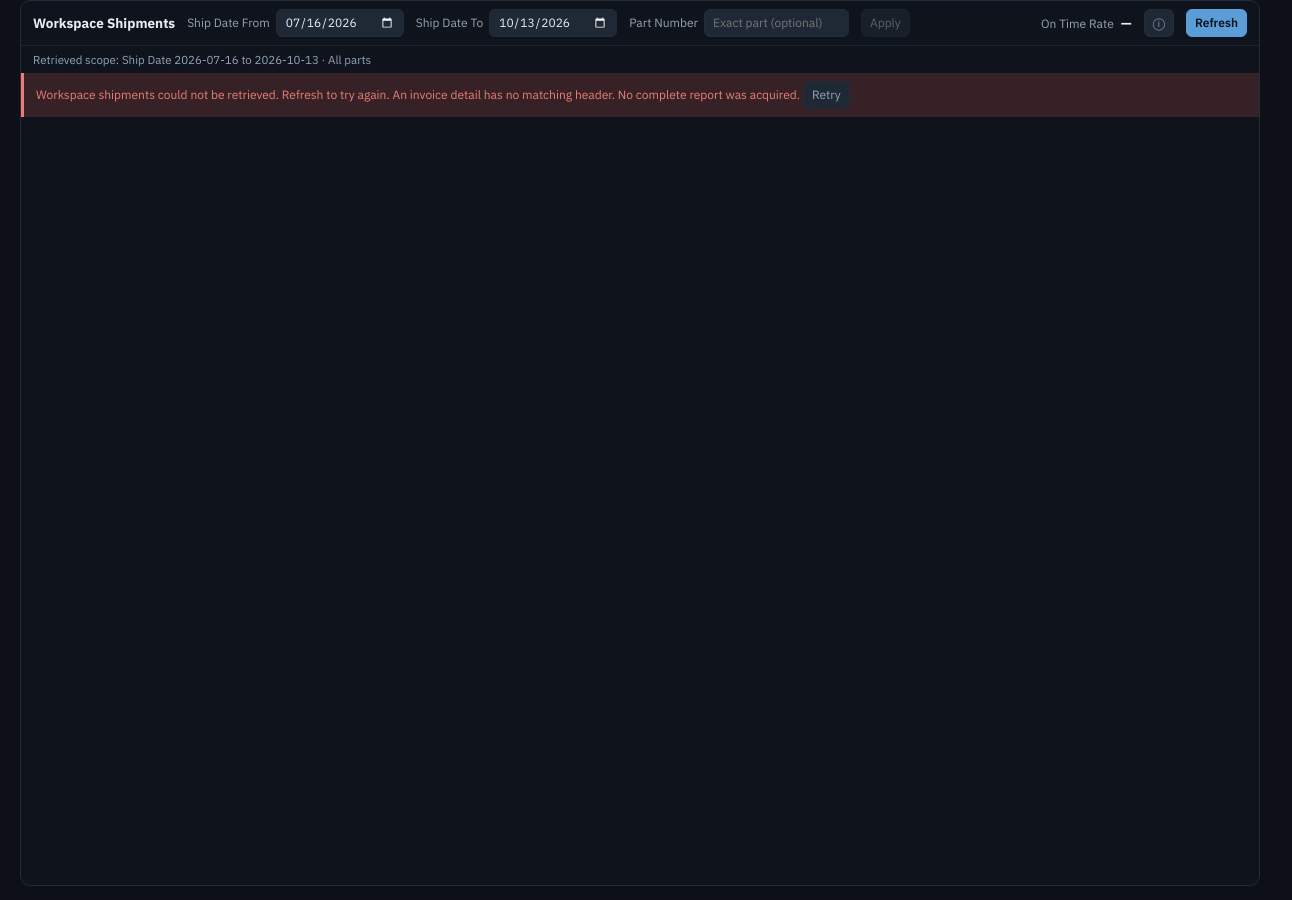
Test: Workspace Shipments panel (mocked generated client only) › shows a safe actionable error and never shows partial results; browser network wording is replaced
Expected: the message shows "Refresh to try again. An invoice detail has no matching header.", left=36, top=87, right=800, bottom=102
Click the button "Refresh": (1216, 23) left=1186, top=9, right=1247, bottom=37
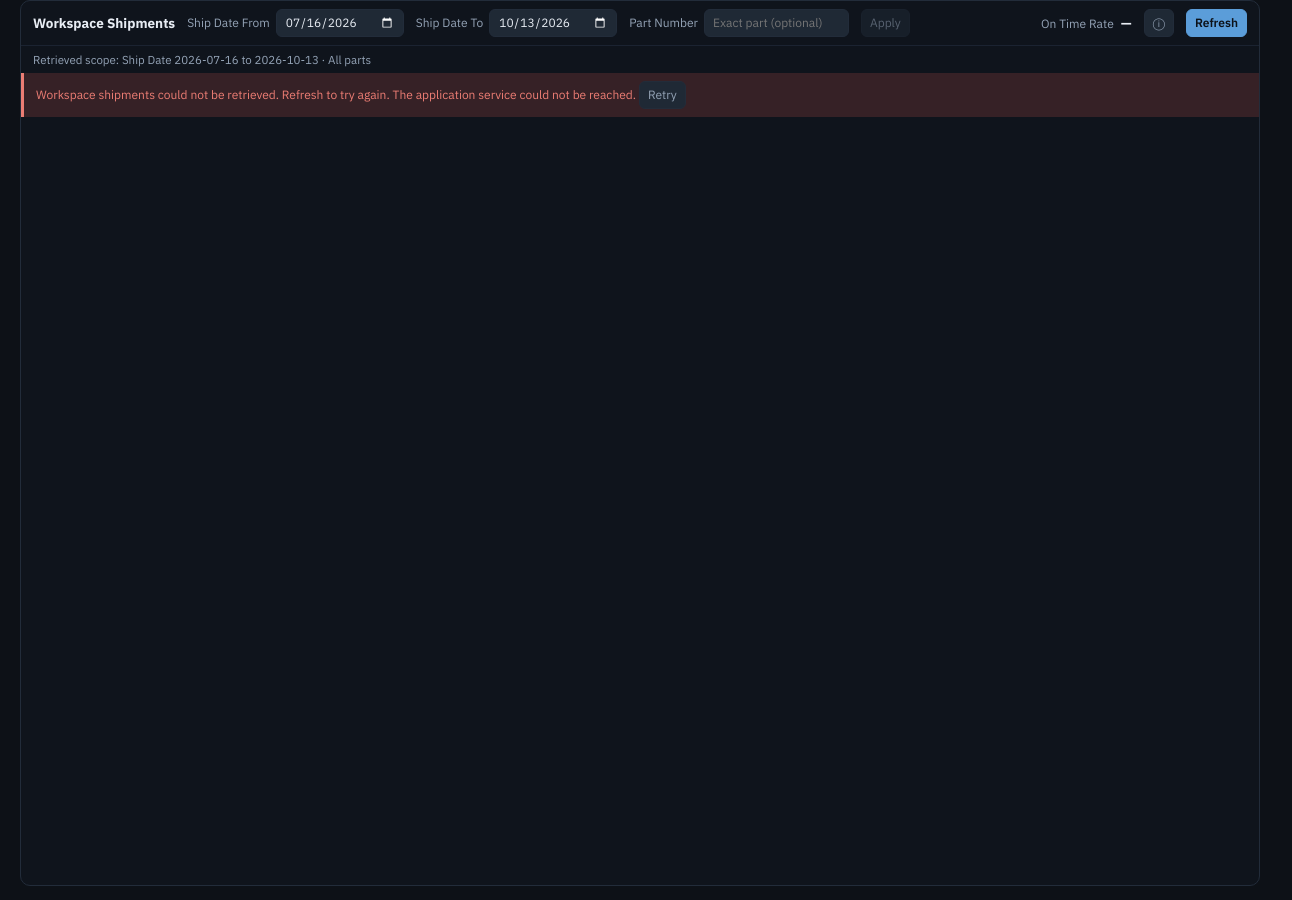
Expected: the message does not show "Failed to fetch", left=21, top=73, right=1259, bottom=117
Now the message shows "could not be reached", box left=36, top=87, right=636, bottom=102
Click the button "Refresh": (1216, 23) left=1186, top=9, right=1247, bottom=37
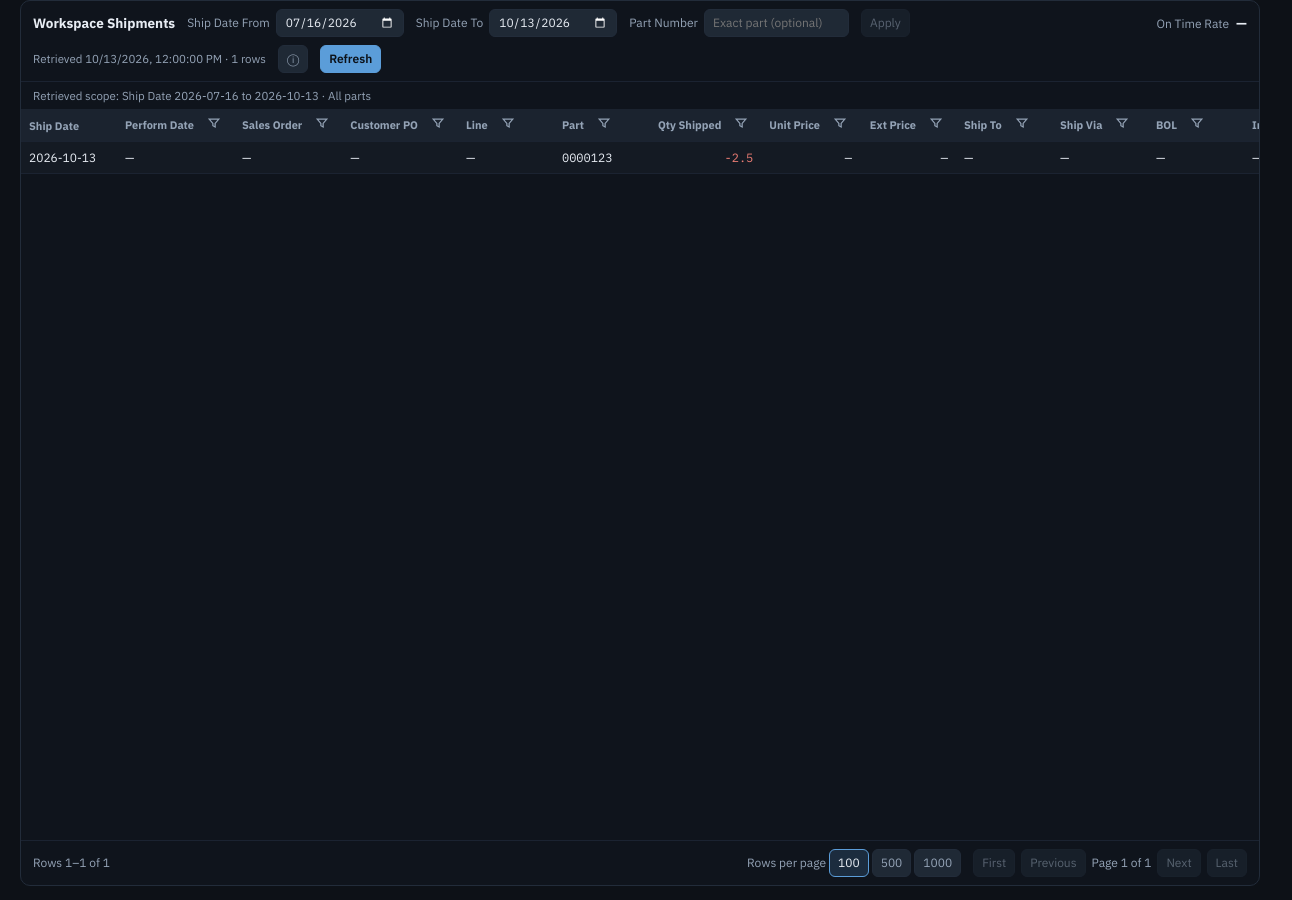
Now the table is shown, box left=21, top=109, right=1259, bottom=174
